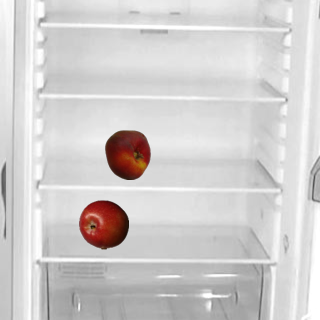Apple Braeburn: (78, 199, 128, 249)
Nectarine Flat: (102, 129, 152, 179)
